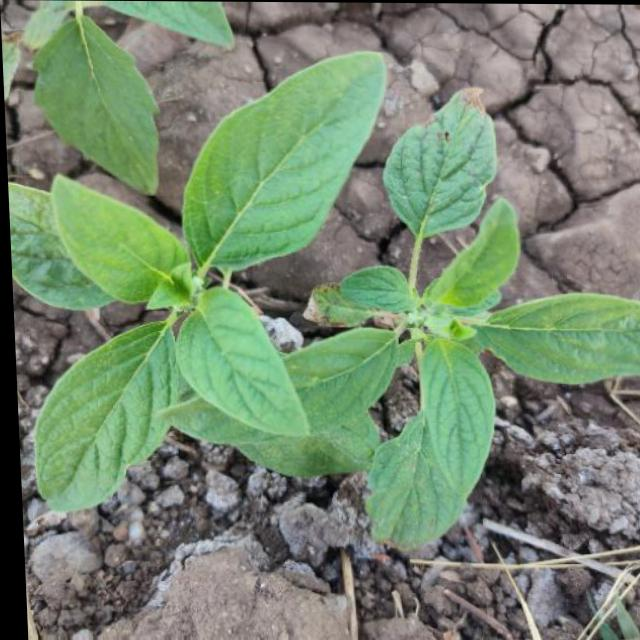crop: (252, 30, 640, 534), (3, 39, 370, 500)
